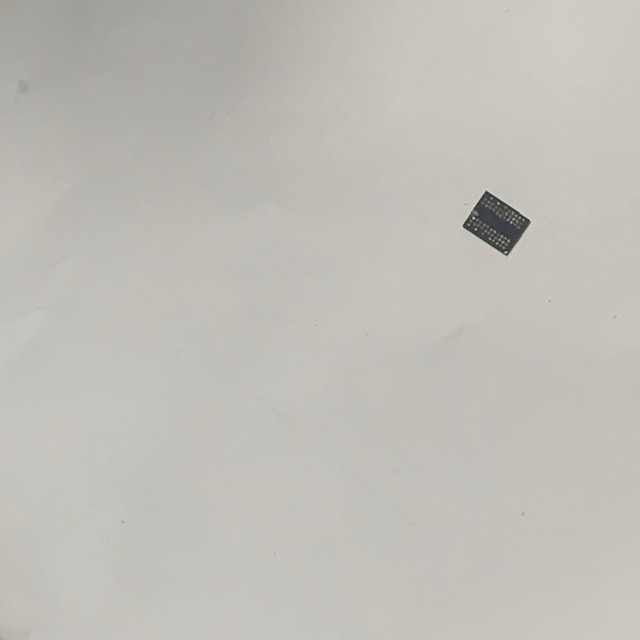IC: (460, 187, 532, 260)
